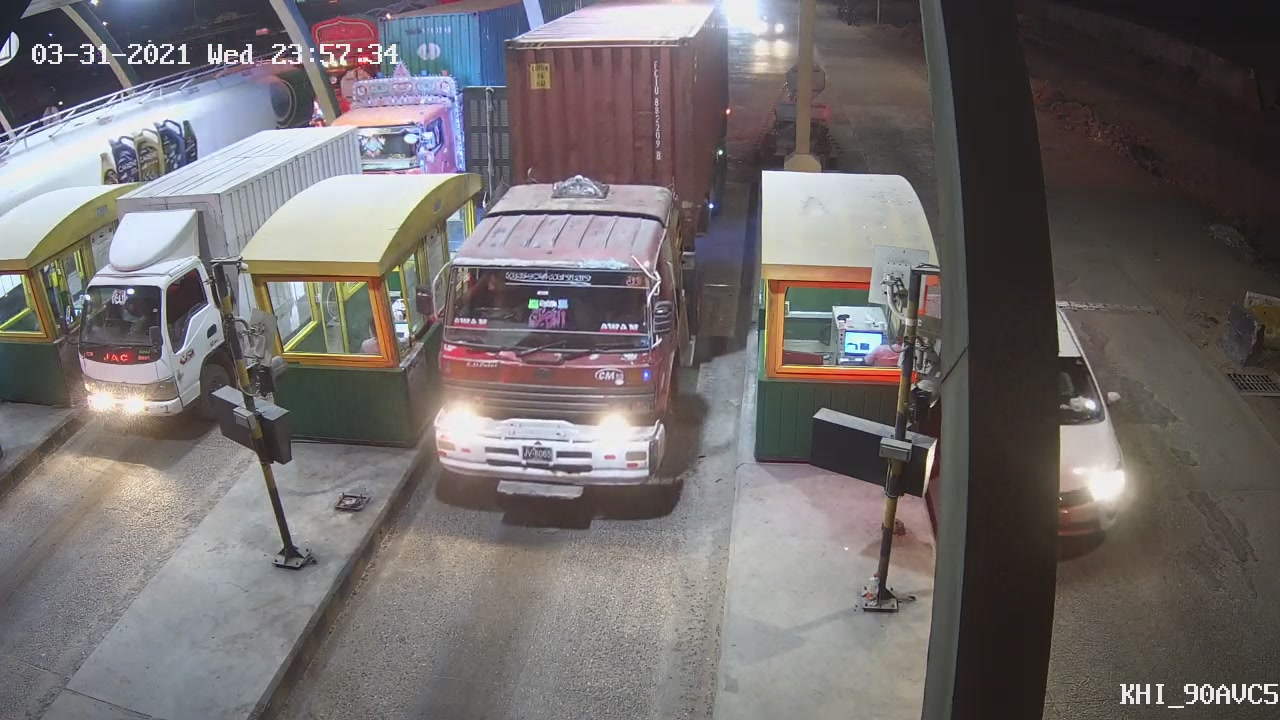F6: (423, 1, 742, 541)
